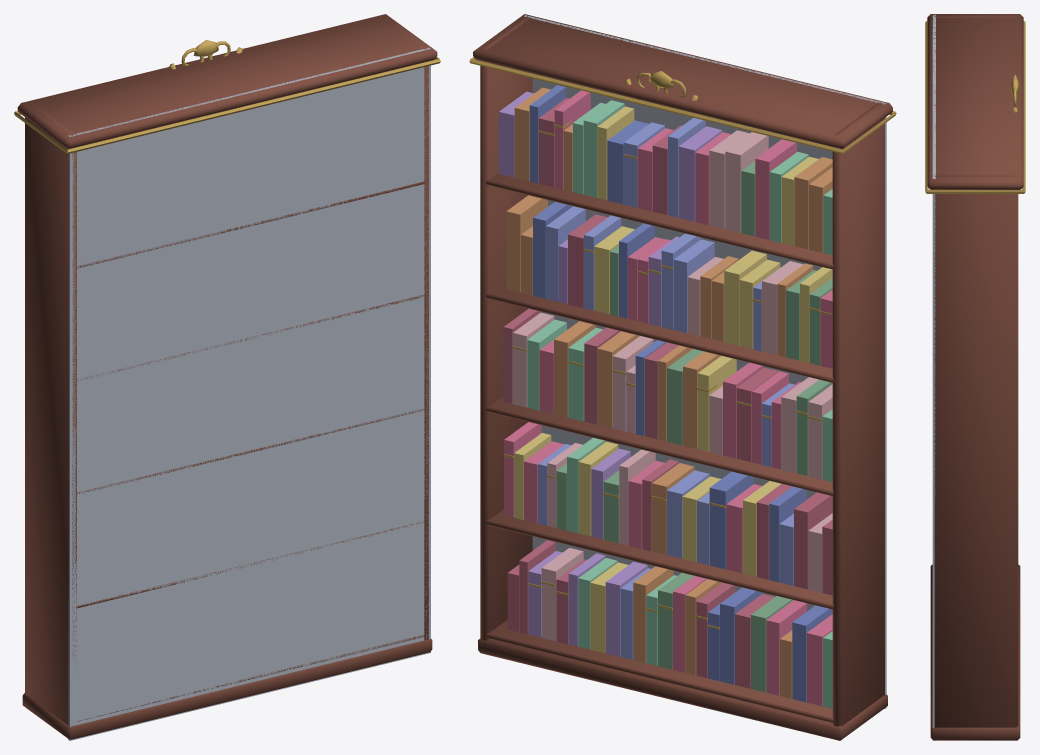
File: bookcase_tall.glb
The picture shows the model from 3 angles, left to right: view 1: azimuth 30°, elevation 25°; view 2: azimuth 150°, elevation 25°; view 3: azimuth 270°, elevation 25°; orthographic projection. The views are drawn at different scales.
Visible parts, largest first — view 1: bookcase_tall; view 2: bookcase_tall; view 3: bookcase_tall.
Boxes of the visible parts, x1,y1,x2,y2 form: bookcase_tall: (14, 14, 440, 740); bookcase_tall: (469, 14, 896, 740); bookcase_tall: (925, 14, 1025, 740).
Size of what is drawn, in the model's own units: 2 by 3.2 by 0.5.
